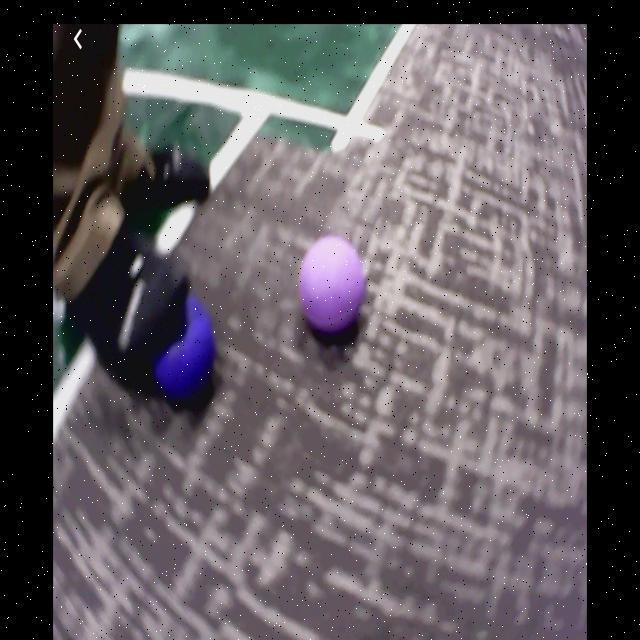ball: (156, 295, 217, 413), (301, 239, 368, 337)
